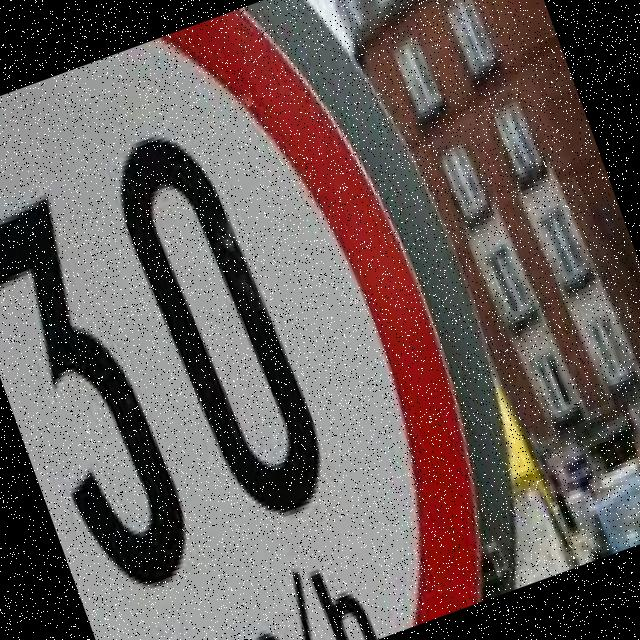speed_limit_30: (0, 0, 533, 640)
